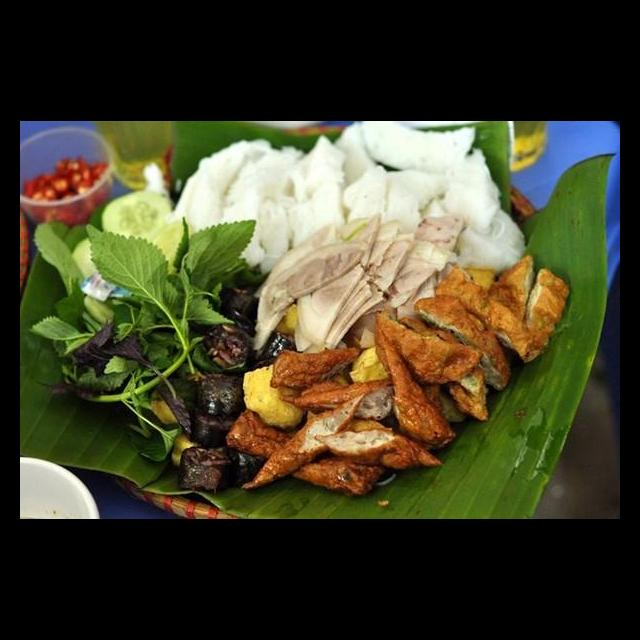bun: (168, 122, 540, 279)
bun dau: (93, 154, 589, 519)
cha com: (366, 251, 575, 452), (221, 346, 461, 495)
doi sun: (175, 438, 270, 507), (183, 370, 251, 445), (198, 314, 264, 377), (217, 280, 264, 329)
thit heo: (245, 208, 472, 358)
